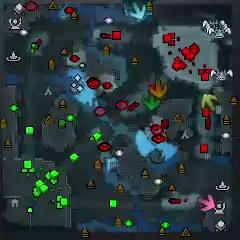x1: (199, 195, 215, 212)
x2: (201, 93, 218, 111)
x3: (129, 2, 147, 20)
x4: (142, 94, 161, 111)
x5: (149, 78, 168, 98)
